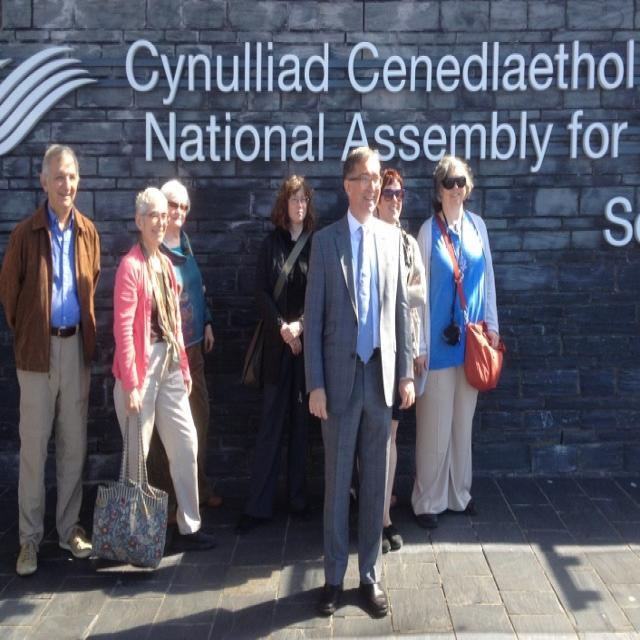body: (301, 144, 419, 623), (87, 184, 221, 576), (0, 137, 106, 580), (407, 151, 510, 532), (0, 548, 370, 638), (234, 172, 323, 541), (146, 178, 224, 529), (374, 165, 429, 556)
